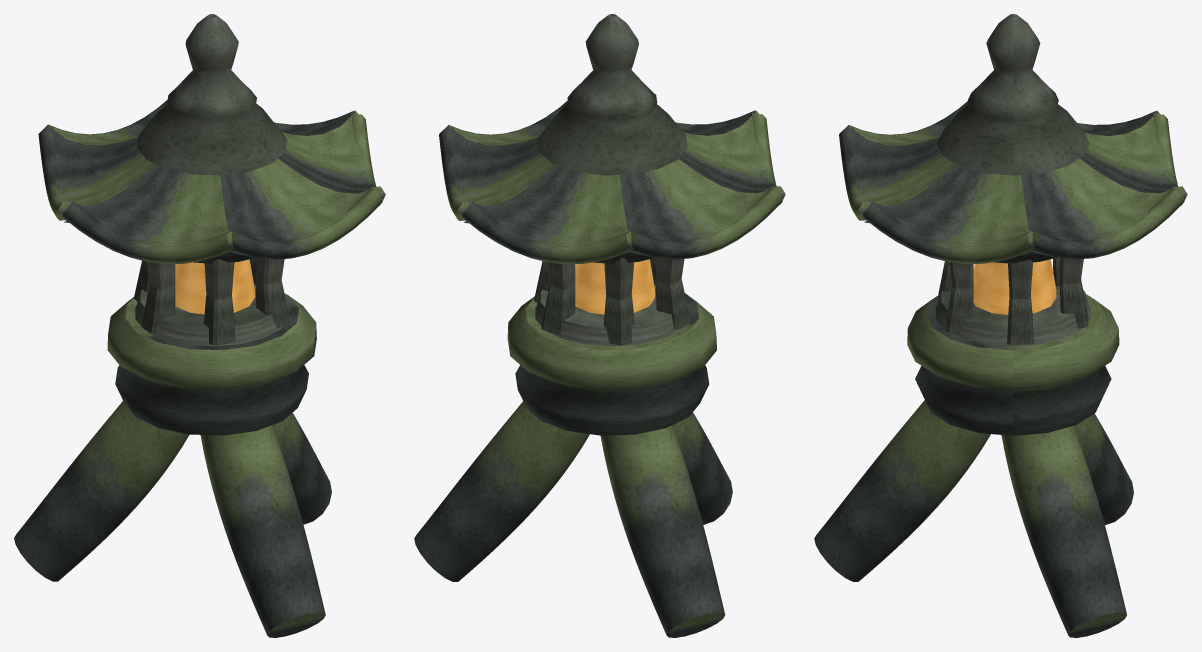
File: stone_toro.glb
3 views of the same model, side by side, from view 1: azimuth 30°, elevation 25°; view 2: azimuth 150°, elevation 25°; view 3: azimuth 270°, elevation 25° (orthographic).
Parts seen in each view (by area): view 1: stone_toro; view 2: stone_toro; view 3: stone_toro.
Boxes of the visible parts, x1,y1,x2,y2 form: stone_toro: (14, 14, 385, 637); stone_toro: (414, 14, 785, 637); stone_toro: (814, 14, 1187, 637).
Bounding box in the file's own units: 1.05 × 1.75 × 1.05.
Materials: 2 (2 with a texture image).
